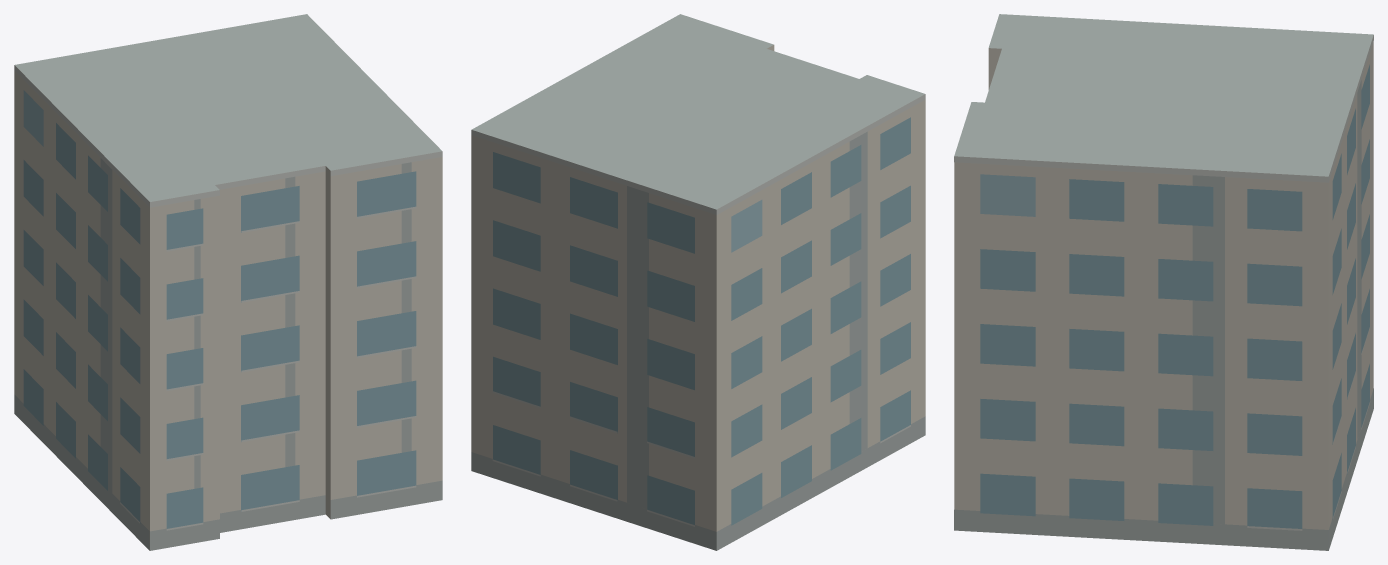
Rendered from survey-upis-32897668.glb.
3 renders of one model, left to right at view 1: azimuth 30°, elevation 25°; view 2: azimuth 150°, elevation 25°; view 3: azimuth 270°, elevation 25°, orthographic. The views are drawn at different scales.
Visible parts, largest first — view 1: survey-upis-32897668.tmp; view 2: survey-upis-32897668.tmp; view 3: survey-upis-32897668.tmp.
Part boxes in pixels (x1,y1,x2,y2): survey-upis-32897668.tmp: (14, 14, 442, 550); survey-upis-32897668.tmp: (471, 14, 925, 550); survey-upis-32897668.tmp: (954, 14, 1373, 550).
Bounding box in the file's own units: 14.22 × 15.25 × 15.51.
